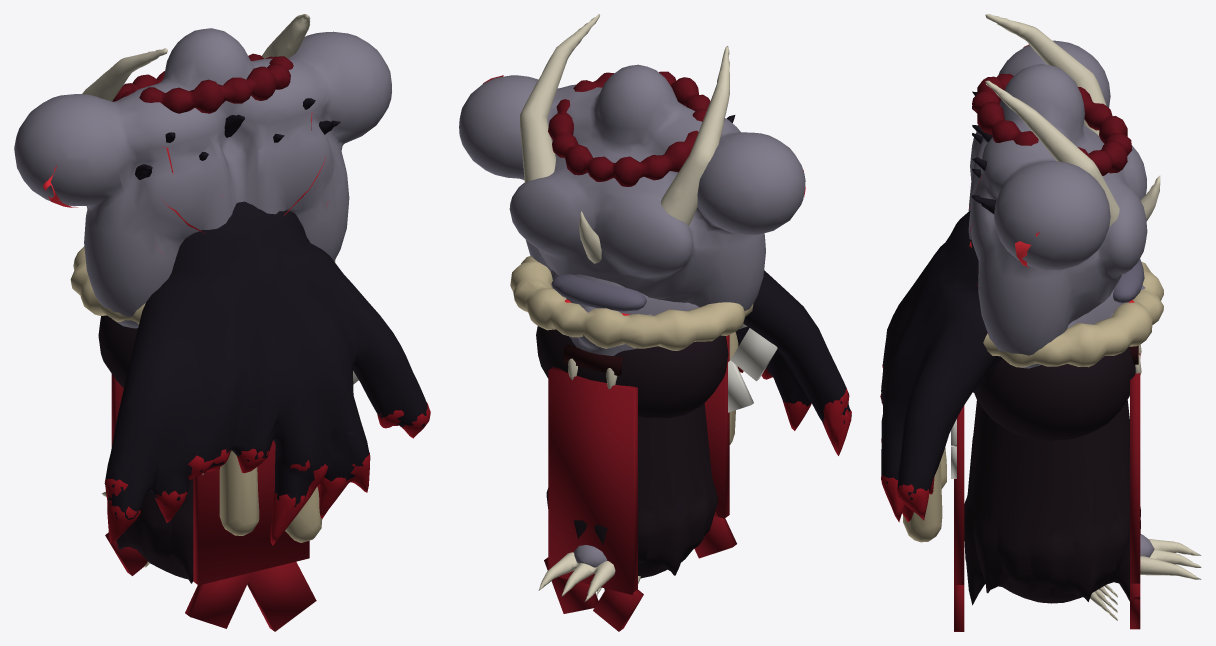
The model's file is oni.glb.
3 views of the same model, side by side, from view 1: azimuth 30°, elevation 25°; view 2: azimuth 150°, elevation 25°; view 3: azimuth 270°, elevation 25° (orthographic). The views are drawn at different scales.
Parts seen in each view (by area): view 1: head, torso, hips, thighL, thighR; view 2: torso, hips, head, thighR, thighL, shinR, shinL; view 3: torso, head, hips, thighL, thighR, shinL, shinR.
Boxes of the visible parts, left/top/right/bottom form: head: left=82, top=14, right=430, bottom=545; torso: left=14, top=28, right=391, bottom=328; hips: left=70, top=246, right=358, bottom=631; thighL: left=125, top=479, right=193, bottom=583; thighR: left=116, top=490, right=187, bottom=579; torso: left=459, top=64, right=805, bottom=315; hips: left=510, top=256, right=777, bottom=631; head: left=520, top=14, right=851, bottom=455; thighR: left=594, top=403, right=717, bottom=590; thighL: left=546, top=404, right=710, bottom=577; shinR: left=538, top=545, right=615, bottom=601; shinL: left=539, top=545, right=615, bottom=600; torso: left=968, top=40, right=1147, bottom=368; head: left=880, top=14, right=1160, bottom=522; hips: left=903, top=261, right=1163, bottom=631; thighL: left=964, top=400, right=1140, bottom=605; thighR: left=964, top=400, right=1140, bottom=602; shinL: left=1140, top=534, right=1201, bottom=579; shinR: left=1140, top=535, right=1200, bottom=579.
Size of the model in its own units: 0.7852 by 1.23 by 0.6211.
